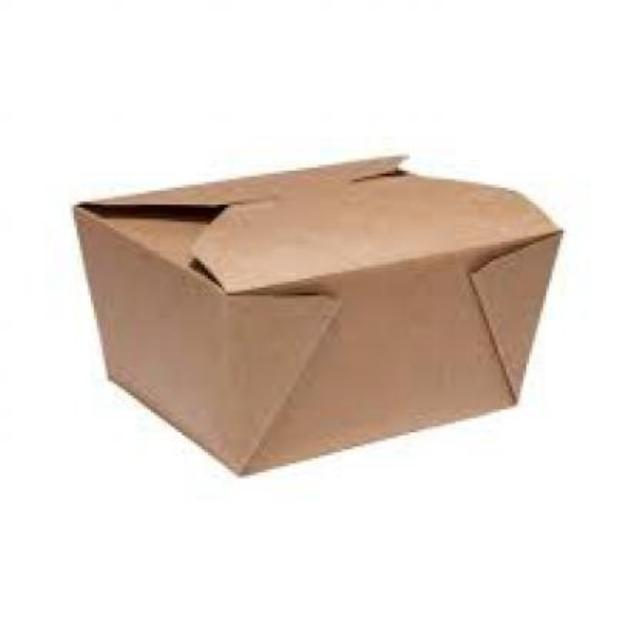cardboard_box: (60, 147, 584, 477)
